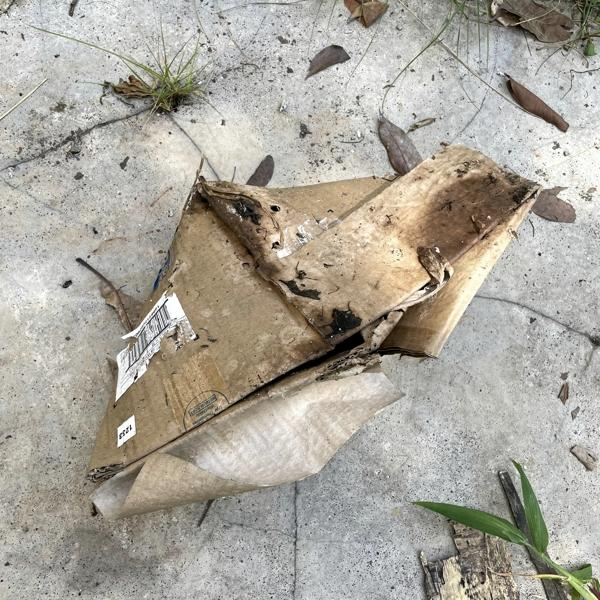Organik: (59, 144, 544, 529)
